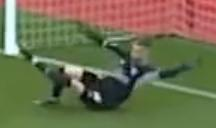goalkeeper: (16, 16, 209, 119)
